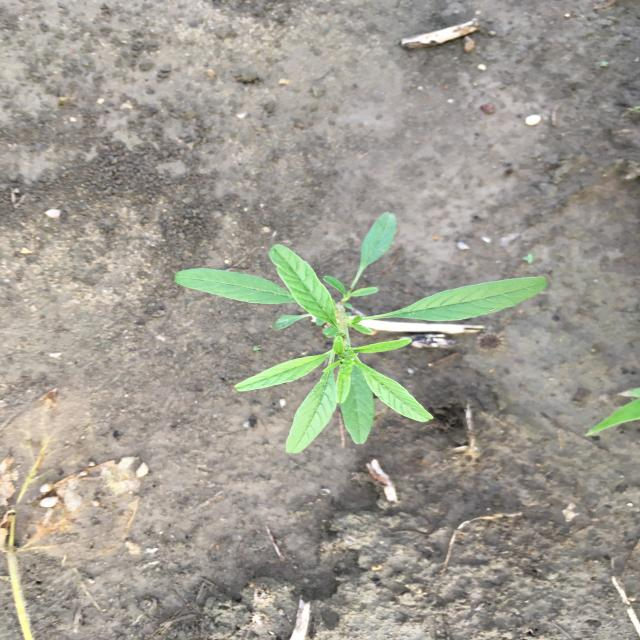Waterhemp: (170, 210, 551, 456)
